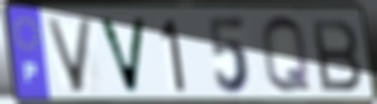1: (158, 18, 189, 94)
5: (207, 14, 256, 98)
B: (308, 17, 364, 94)
Q: (258, 13, 315, 98)
V: (95, 15, 149, 97), (42, 17, 96, 96)
